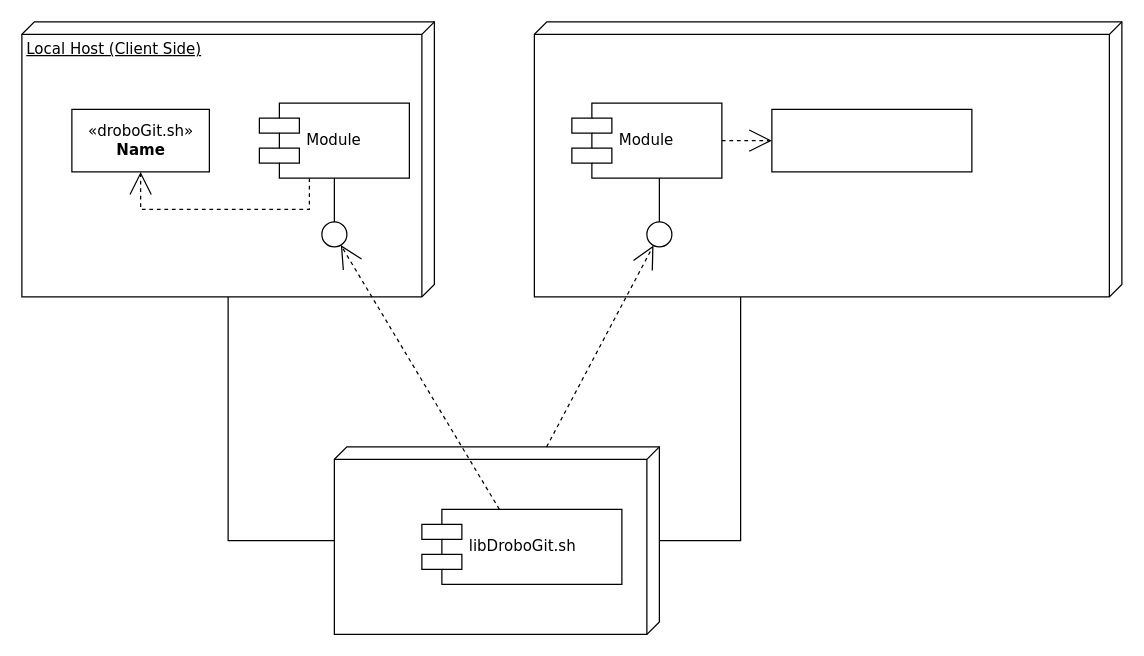
Some shapes in this 1144 by 656 pixel diagram are drawn without their labels. Here are the shapes that lost their labels. From the top down, the box of each, then its label:
(533, 21, 1122, 297): Drobo (Server Side)
(771, 108, 972, 172): «droboGitServer.sh» Name
(333, 446, 659, 634): Common Library
